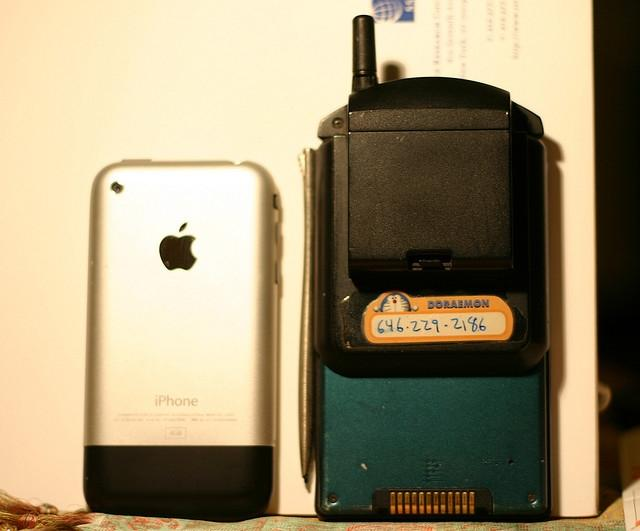apple: (160, 223, 197, 270)
